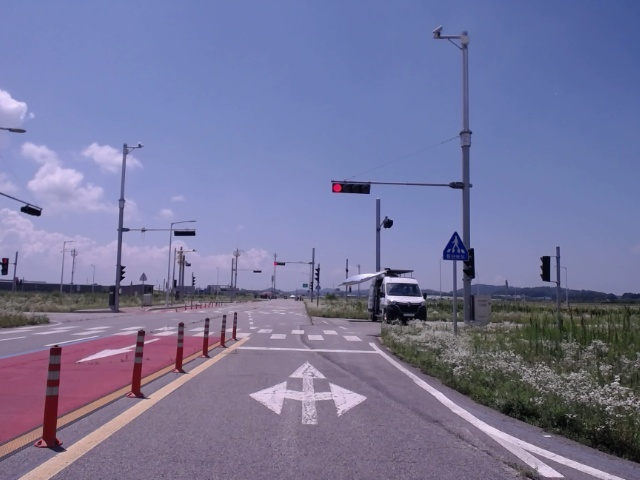red_4: (330, 182, 371, 194)
